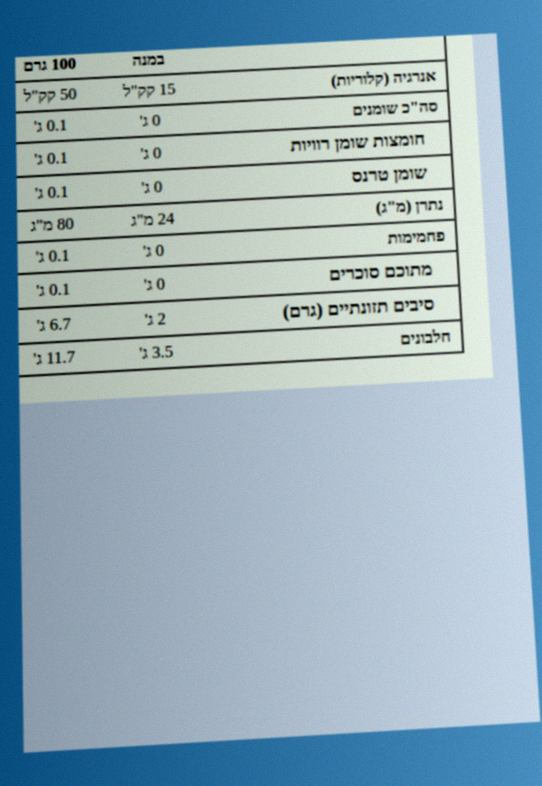carbs: (33, 245, 72, 268)
energy: (21, 83, 79, 107)
fat: (32, 114, 69, 137)
protein: (31, 346, 78, 370)
